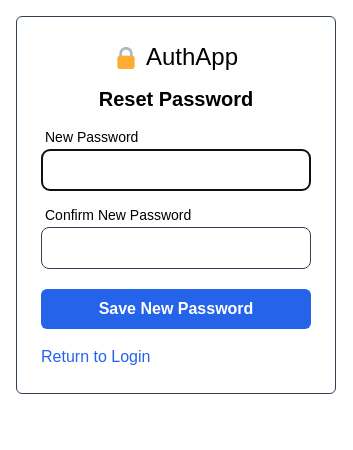
Scenario: AccountApp › update-password › validation › password and password confirmation are required
Expected: the heading "AuthApp" is shown, [146,41,238,73]
Step 1. Click the button "Save New Password" → (176, 309), box [41,289,311,329]
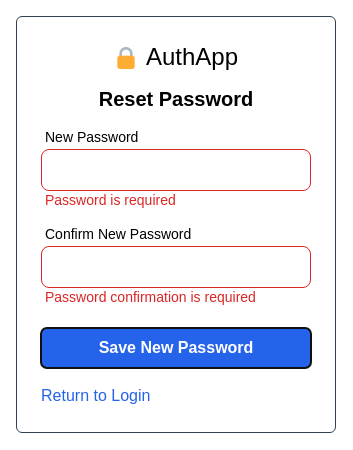
Result: the text "Password is required" is shown at [45,192,176,208]
Result: the text "Password confirmation is required" is shown at [45,289,256,305]
